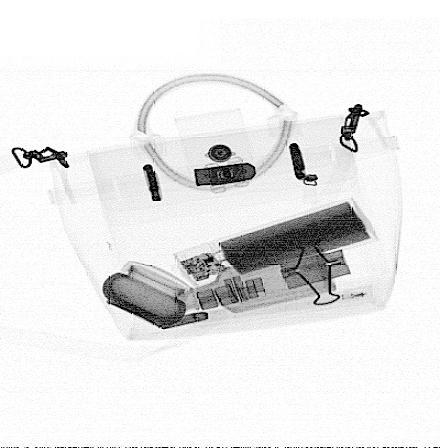Powerbank: (175, 197, 378, 296)
